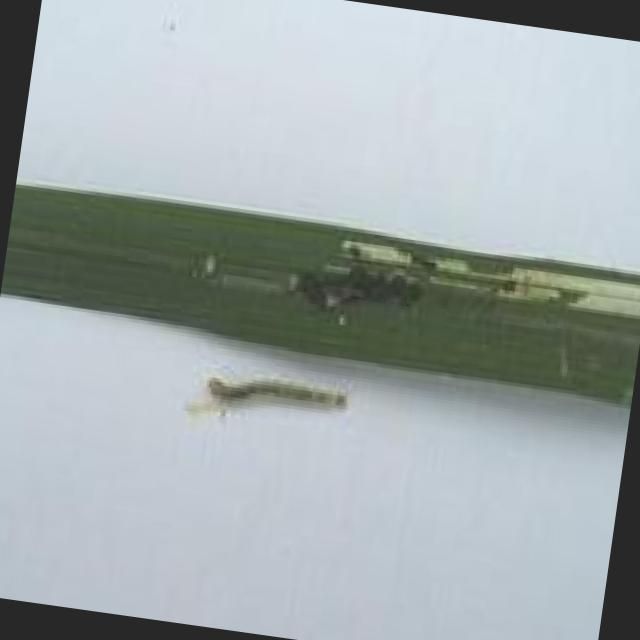leaf folder: (187, 375, 349, 421)
